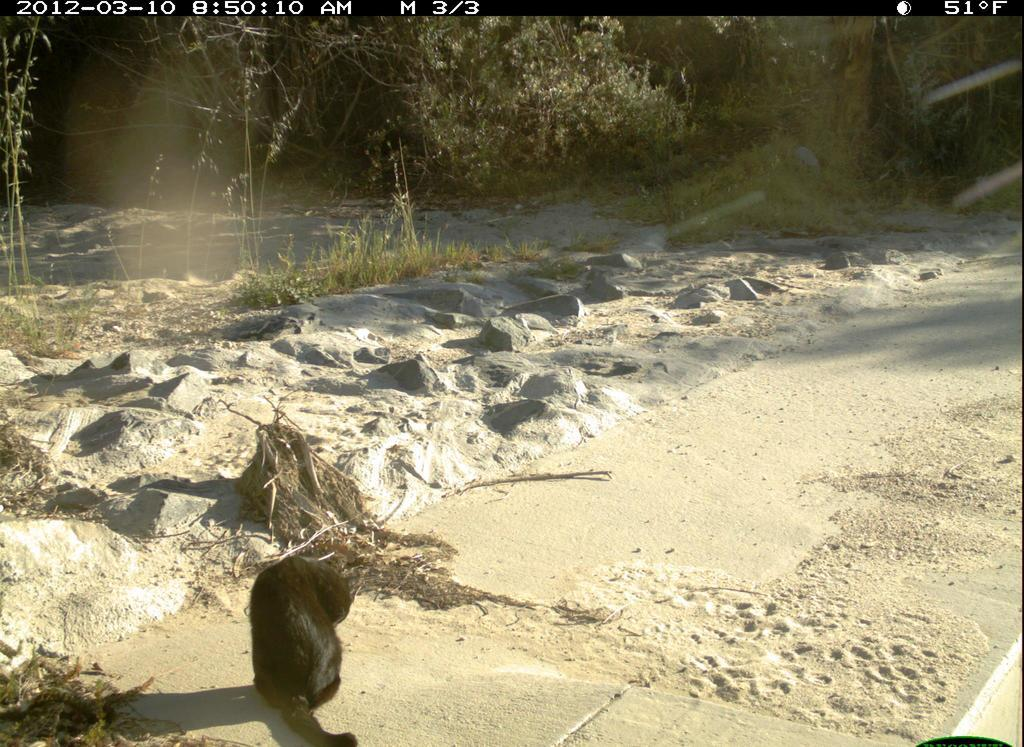cat: (237, 543, 409, 747)
